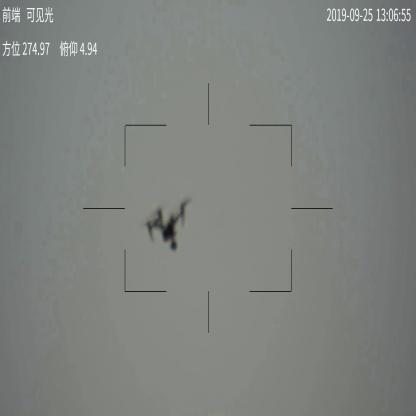uav: (140, 202, 187, 253)
